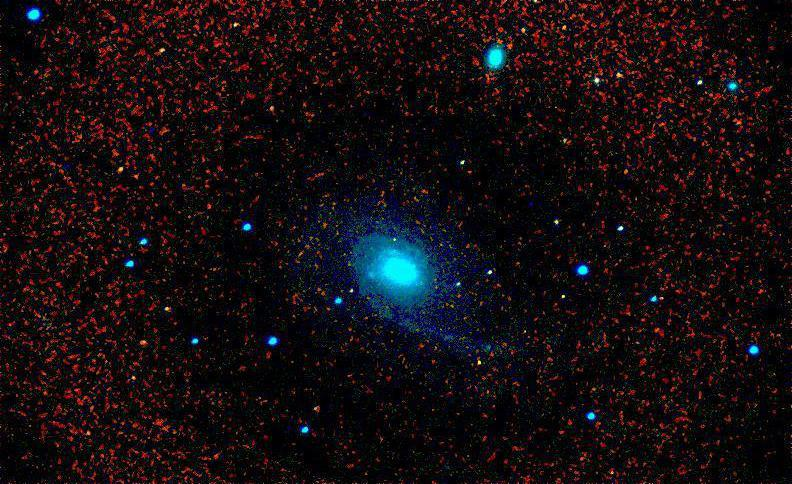star: (152, 296, 182, 326)
